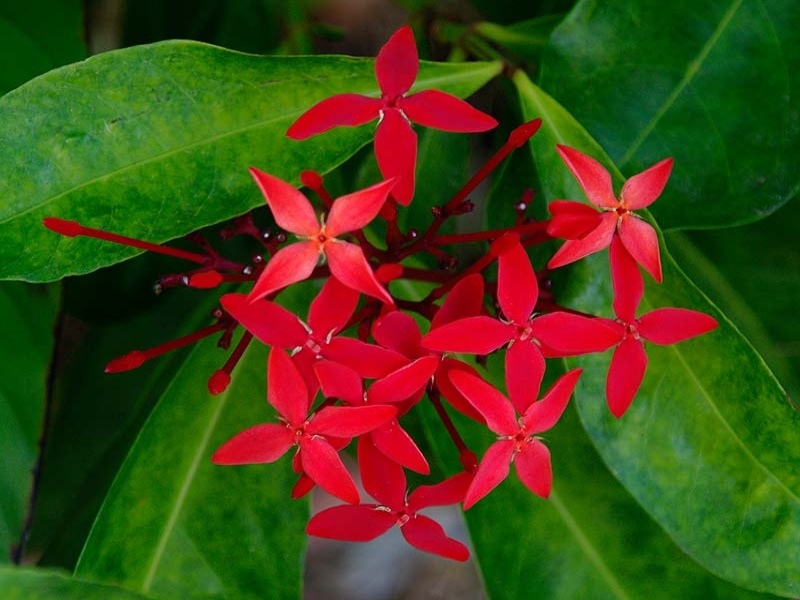Ixora: (24, 19, 752, 572)
